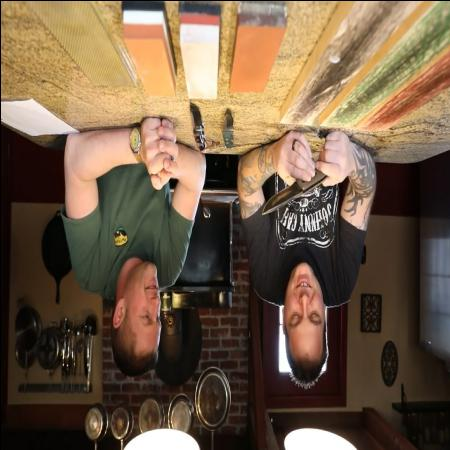long weapon: (250, 162, 336, 222)
